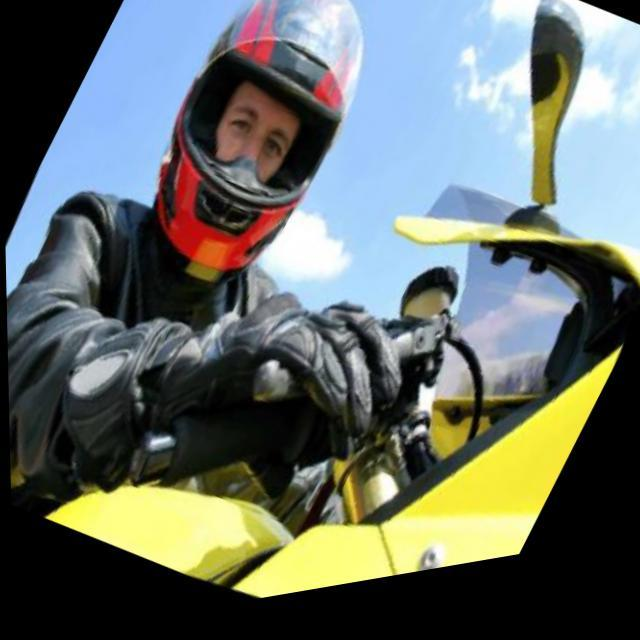Helmet: (141, 0, 369, 284)
